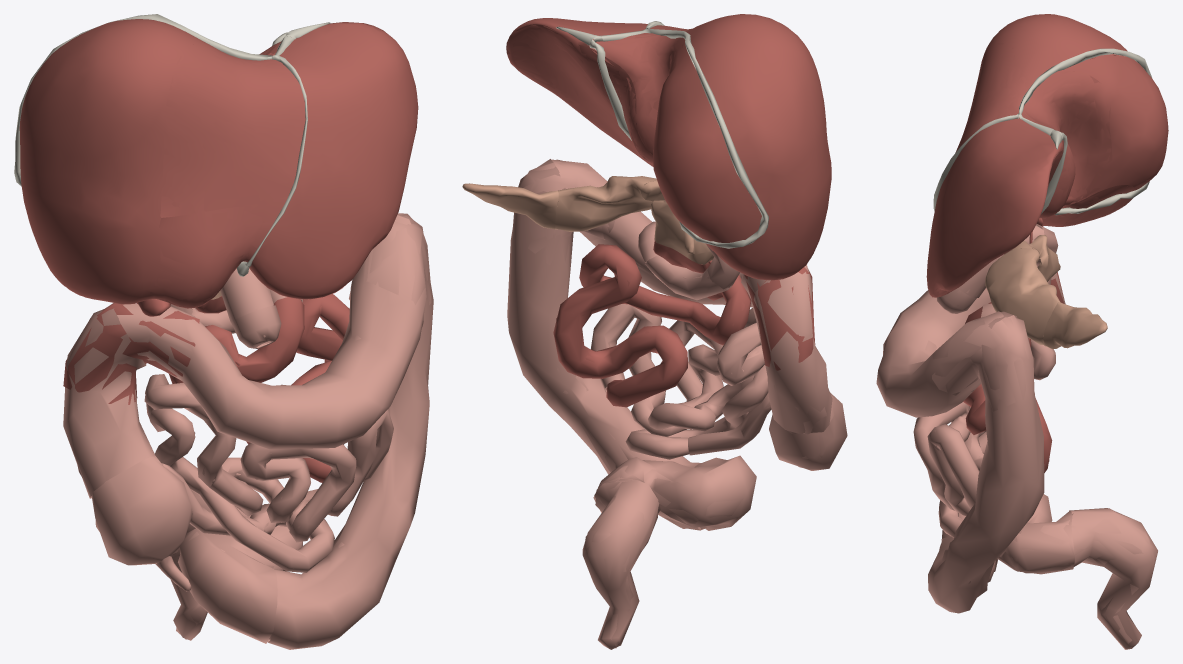
Rendered from adult_female.digestive.LOD2.glb.
The picture shows the model from 3 angles, left to right: view 1: azimuth 30°, elevation 25°; view 2: azimuth 150°, elevation 25°; view 3: azimuth 270°, elevation 25°; orthographic projection. The views are drawn at different scales.
Parts seen in each view (by area): view 1: ADULT.FEMALE.DIGESTIVE.CAPSULE_OF_THE_LIVER, ADULT.FEMALE.DIGESTIVE.TRANSVERSE_COLON, ADULT.FEMALE.DIGESTIVE.ILEUM, ADULT.FEMALE.DIGESTIVE.DESCENDING_COLON, ADULT.FEMALE.DIGESTIVE.LEFT_SUPEROMEDIAL_SEGMENT1, ADULT.FEMALE.DIGESTIVE.ASCENDING_COLON, ADULT.FEMALE.DIGESTIVE.SIGMOID_COLON, ADULT.FEMALE.DIGESTIVE.CAECUM, ADULT.FEMALE.DIGESTIVE.JEJENUM, ADULT.FEMALE.DIGESTIVE.LEFT_INFEROMEDIAL_SEGMENT, ADULT.FEMALE.DIGESTIVE.HEPATIC_FLEXURE_OF_COLON, ADULT.FEMALE.DIGESTIVE.SPLENIC_FLEXURE_OF_COLON (+6 smaller); view 2: ADULT.FEMALE.DIGESTIVE.CAPSULE_OF_THE_LIVER, ADULT.FEMALE.DIGESTIVE.BARE_AREA_OF_LIVER, ADULT.FEMALE.DIGESTIVE.DESCENDING_COLON, ADULT.FEMALE.DIGESTIVE.JEJENUM, ADULT.FEMALE.DIGESTIVE.ILEUM, ADULT.FEMALE.DIGESTIVE.RECTUM, ADULT.FEMALE.DIGESTIVE.ASCENDING_COLON, ADULT.FEMALE.DIGESTIVE.SIGMOID_COLON, ADULT.FEMALE.DIGESTIVE.DIAPHRAGMATIC_SURFACE_OF_LIVER, ADULT.FEMALE.DIGESTIVE.BODY_OF_PANCREAS, ADULT.FEMALE.DIGESTIVE.TRANSVERSE_COLON, ADULT.FEMALE.DIGESTIVE.CAECUM (+12 smaller); view 3: ADULT.FEMALE.DIGESTIVE.CAPSULE_OF_THE_LIVER, ADULT.FEMALE.DIGESTIVE.DESCENDING_COLON, ADULT.FEMALE.DIGESTIVE.BARE_AREA_OF_LIVER, ADULT.FEMALE.DIGESTIVE.TRANSVERSE_COLON, ADULT.FEMALE.DIGESTIVE.RECTUM, ADULT.FEMALE.DIGESTIVE.ILEUM, ADULT.FEMALE.DIGESTIVE.BODY_OF_PANCREAS, ADULT.FEMALE.DIGESTIVE.SIGMOID_COLON, ADULT.FEMALE.DIGESTIVE.CAUDATE_LOBE, ADULT.FEMALE.DIGESTIVE.SPLENIC_FLEXURE_OF_COLON, ADULT.FEMALE.DIGESTIVE.TAIL_OF_PANCREAS, ADULT.FEMALE.DIGESTIVE.CORONARY_LIGAMENT_OF_LIVER (+8 smaller).
Part boxes in pixels (<box>): ADULT.FEMALE.DIGESTIVE.CAPSULE_OF_THE_LIVER: <box>19,19,418,308</box>; ADULT.FEMALE.DIGESTIVE.TRANSVERSE_COLON: <box>117,215,426,449</box>; ADULT.FEMALE.DIGESTIVE.ILEUM: <box>144,374,393,572</box>; ADULT.FEMALE.DIGESTIVE.DESCENDING_COLON: <box>267,214,433,649</box>; ADULT.FEMALE.DIGESTIVE.LEFT_SUPEROMEDIAL_SEGMENT1: <box>160,47,308,217</box>; ADULT.FEMALE.DIGESTIVE.ASCENDING_COLON: <box>63,308,155,498</box>; ADULT.FEMALE.DIGESTIVE.SIGMOID_COLON: <box>178,505,302,643</box>; ADULT.FEMALE.DIGESTIVE.CAECUM: <box>91,456,192,565</box>; ADULT.FEMALE.DIGESTIVE.JEJENUM: <box>169,294,349,482</box>; ADULT.FEMALE.DIGESTIVE.LEFT_INFEROMEDIAL_SEGMENT: <box>150,203,283,307</box>; ADULT.FEMALE.DIGESTIVE.HEPATIC_FLEXURE_OF_COLON: <box>63,303,199,404</box>; ADULT.FEMALE.DIGESTIVE.SPLENIC_FLEXURE_OF_COLON: <box>349,213,431,326</box>; ADULT.FEMALE.DIGESTIVE.CAPSULE_OF_THE_LIVER: <box>506,14,831,280</box>; ADULT.FEMALE.DIGESTIVE.BARE_AREA_OF_LIVER: <box>588,35,761,242</box>; ADULT.FEMALE.DIGESTIVE.DESCENDING_COLON: <box>507,159,704,530</box>; ADULT.FEMALE.DIGESTIVE.JEJENUM: <box>553,244,751,407</box>; ADULT.FEMALE.DIGESTIVE.ILEUM: <box>591,304,768,459</box>; ADULT.FEMALE.DIGESTIVE.RECTUM: <box>582,479,659,649</box>; ADULT.FEMALE.DIGESTIVE.ASCENDING_COLON: <box>752,264,832,434</box>; ADULT.FEMALE.DIGESTIVE.SIGMOID_COLON: <box>593,455,756,530</box>; ADULT.FEMALE.DIGESTIVE.DIAPHRAGMATIC_SURFACE_OF_LIVER: <box>506,24,798,276</box>; ADULT.FEMALE.DIGESTIVE.BODY_OF_PANCREAS: <box>555,176,656,231</box>; ADULT.FEMALE.DIGESTIVE.TRANSVERSE_COLON: <box>551,159,807,307</box>; ADULT.FEMALE.DIGESTIVE.CAECUM: <box>769,392,847,470</box>; ADULT.FEMALE.DIGESTIVE.CAPSULE_OF_THE_LIVER: <box>926,14,1135,297</box>; ADULT.FEMALE.DIGESTIVE.DESCENDING_COLON: <box>928,315,1044,613</box>; ADULT.FEMALE.DIGESTIVE.BARE_AREA_OF_LIVER: <box>1024,55,1168,210</box>; ADULT.FEMALE.DIGESTIVE.TRANSVERSE_COLON: <box>876,288,1017,417</box>; ADULT.FEMALE.DIGESTIVE.RECTUM: <box>1069,508,1157,649</box>; ADULT.FEMALE.DIGESTIVE.ILEUM: <box>913,339,1055,537</box>; ADULT.FEMALE.DIGESTIVE.BODY_OF_PANCREAS: <box>985,248,1059,346</box>; ADULT.FEMALE.DIGESTIVE.SIGMOID_COLON: <box>941,494,1074,574</box>; ADULT.FEMALE.DIGESTIVE.CAUDATE_LOBE: <box>1023,71,1112,217</box>; ADULT.FEMALE.DIGESTIVE.SPLENIC_FLEXURE_OF_COLON: <box>932,311,1034,415</box>; ADULT.FEMALE.DIGESTIVE.TAIL_OF_PANCREAS: <box>1043,302,1107,349</box>; ADULT.FEMALE.DIGESTIVE.CORONARY_LIGAMENT_OF_LIVER: <box>1019,48,1151,215</box>.
Size of the model in its own units: 0.2531 by 0.4461 by 0.2011.
